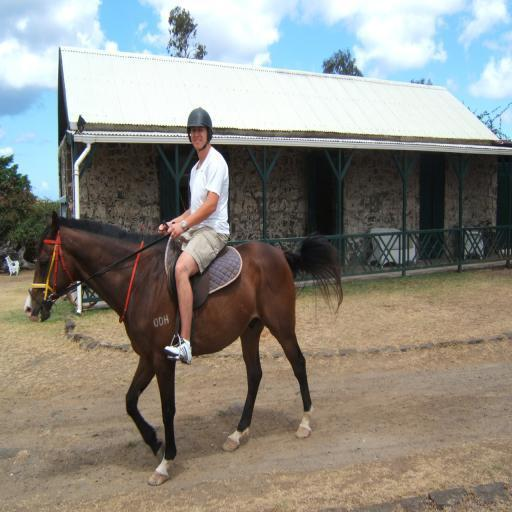horse: (22, 209, 346, 485)
